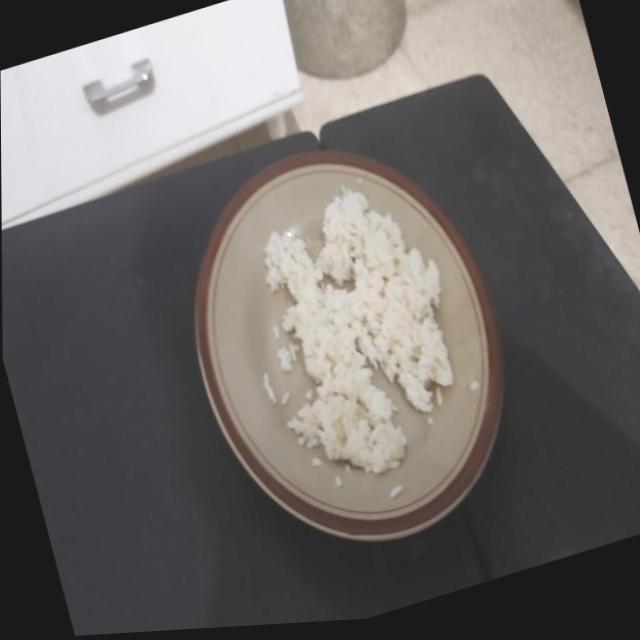nasi_putih: (264, 187, 453, 472)
